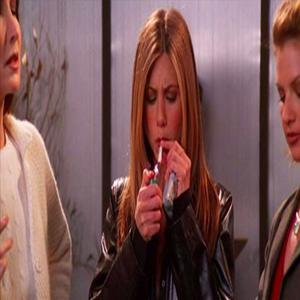cigarette: (155, 138, 164, 168)
